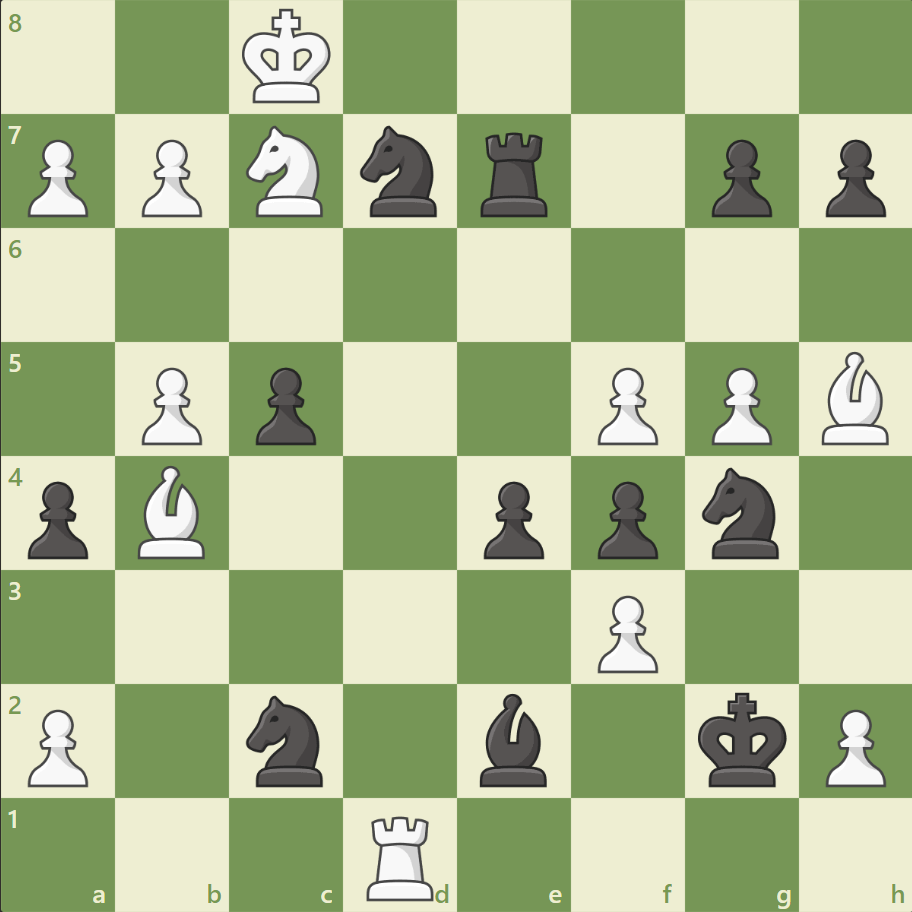B: (131, 460, 215, 563), (812, 347, 896, 449)
K: (238, 4, 338, 112)
N: (238, 121, 335, 223)
P: (20, 132, 95, 223), (133, 132, 208, 223), (133, 359, 208, 450), (701, 359, 776, 450), (20, 700, 95, 791), (588, 359, 662, 450), (588, 586, 662, 677), (815, 700, 889, 791)
R: (360, 806, 442, 904)
b: (471, 687, 555, 790)
k: (692, 685, 792, 793)
n: (351, 121, 449, 223), (692, 461, 789, 564), (238, 688, 335, 791)
p: (701, 132, 776, 223), (247, 359, 322, 450), (20, 473, 95, 564), (474, 473, 549, 564), (815, 132, 889, 223), (588, 473, 662, 564)
r: (473, 125, 556, 222)
